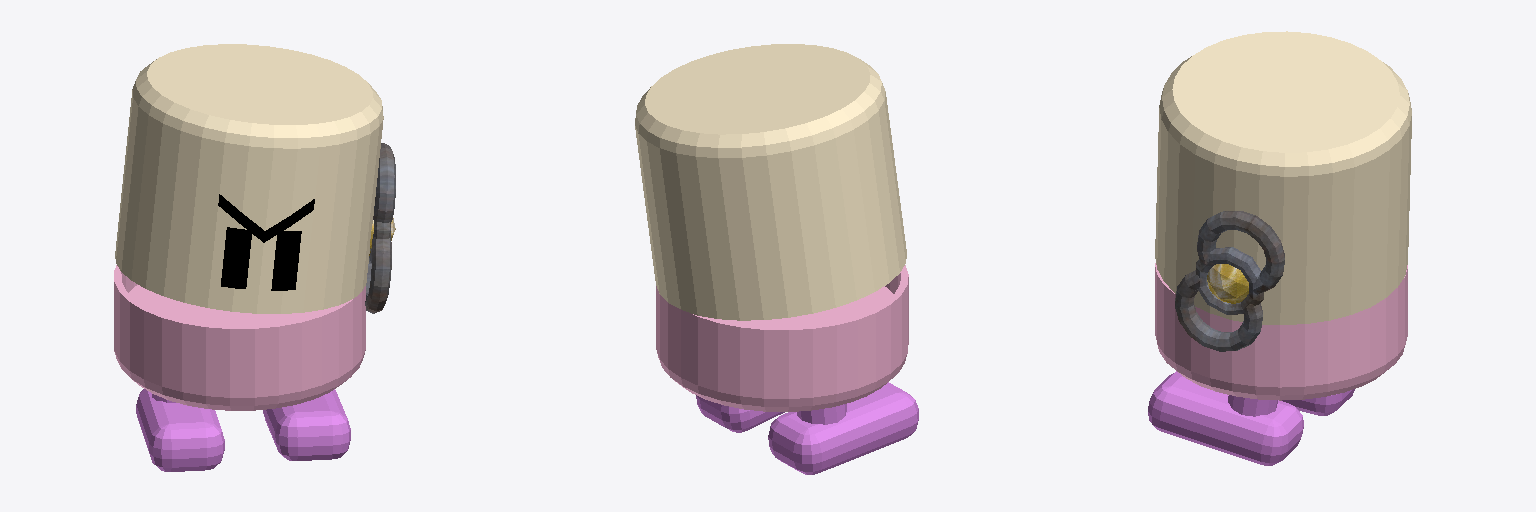
3 renders of one model, left to right at view 1: azimuth 30°, elevation 25°; view 2: azimuth 150°, elevation 25°; view 3: azimuth 270°, elevation 25°, orthographic.
Visible parts, largest first — view 1: Head, Jaw, RightLeg, LeftLeg, WindupKey; view 2: Head, Jaw, RightLeg, LeftLeg; view 3: Head, Jaw, WindupKey, LeftLeg, RightLeg.
Boxes of the visible parts, box(x1,y1,x2,y2) form: Head: box(115, 44, 383, 313); Jaw: box(114, 265, 365, 410); RightLeg: box(136, 389, 224, 471); LeftLeg: box(263, 389, 350, 460); WindupKey: box(365, 143, 395, 313); Head: box(635, 44, 906, 320); Jaw: box(656, 265, 908, 411); RightLeg: box(768, 382, 918, 474); LeftLeg: box(696, 395, 784, 432); Head: box(1155, 31, 1411, 324); Jaw: box(1155, 263, 1407, 400); WindupKey: box(1175, 211, 1284, 351); LeftLeg: box(1148, 371, 1303, 465); RightLeg: box(1282, 389, 1354, 415).
Size of the model in its own units: 115 by 157 by 104.
Materials: 6 (2 with a texture image).